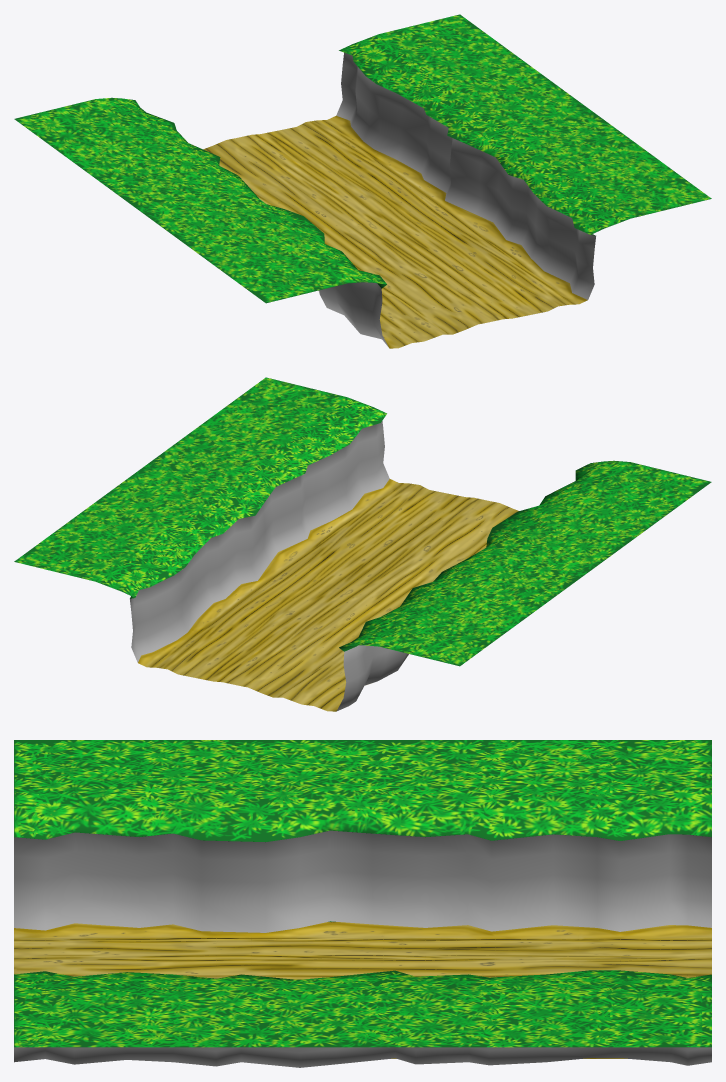
File: LevelTile01.fbx
The picture shows the model from 3 angles, top to bottom: view 1: azimuth 30°, elevation 25°; view 2: azimuth 150°, elevation 25°; view 3: azimuth 270°, elevation 25°; orthographic projection. The views are drawn at different scales.
Parts seen in each view (by area): view 1: LevelTileMesh01; view 2: LevelTileMesh01; view 3: LevelTileMesh01.
Part boxes in pixels (x1,y1,x2,y2): LevelTileMesh01: [14, 14, 711, 348]; LevelTileMesh01: [14, 377, 711, 711]; LevelTileMesh01: [14, 740, 711, 1067].
Bounding box in the file's own units: 20.44 × 3.39 × 20.
